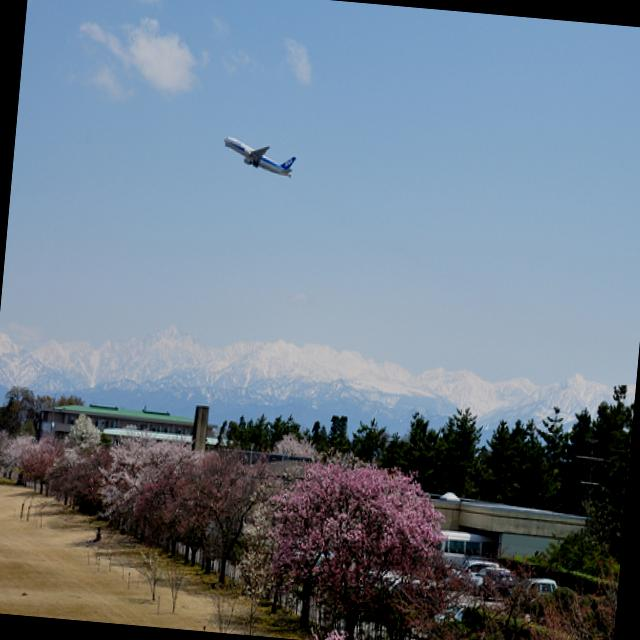Vehicle: (436, 527, 500, 573), (464, 564, 514, 600), (450, 555, 497, 579), (521, 574, 559, 596), (528, 578, 558, 594)
